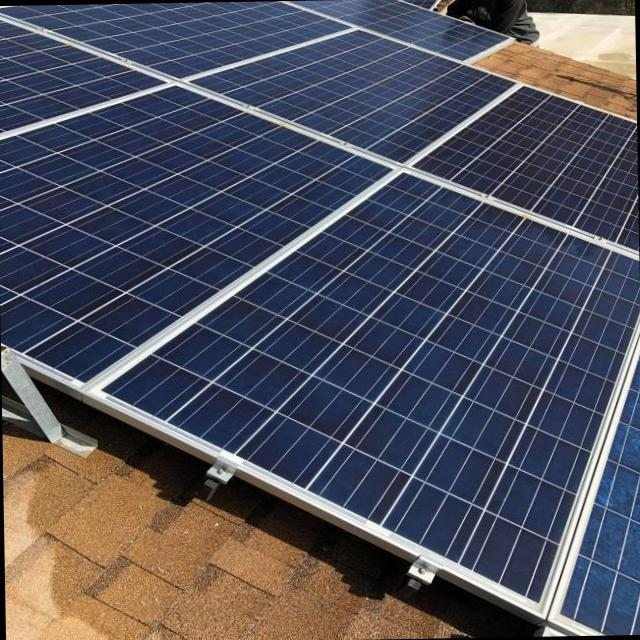no faulty: (119, 170, 638, 599), (0, 85, 393, 377), (203, 34, 514, 159), (420, 83, 634, 241), (9, 4, 349, 78), (0, 19, 161, 134)
